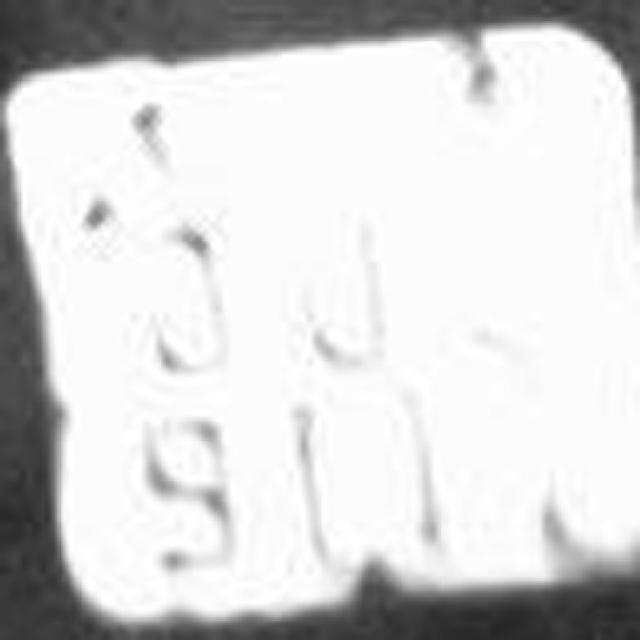9: (104, 369, 248, 576)
D: (280, 352, 395, 576), (368, 356, 460, 576)
O: (120, 188, 260, 408), (272, 188, 412, 388)
